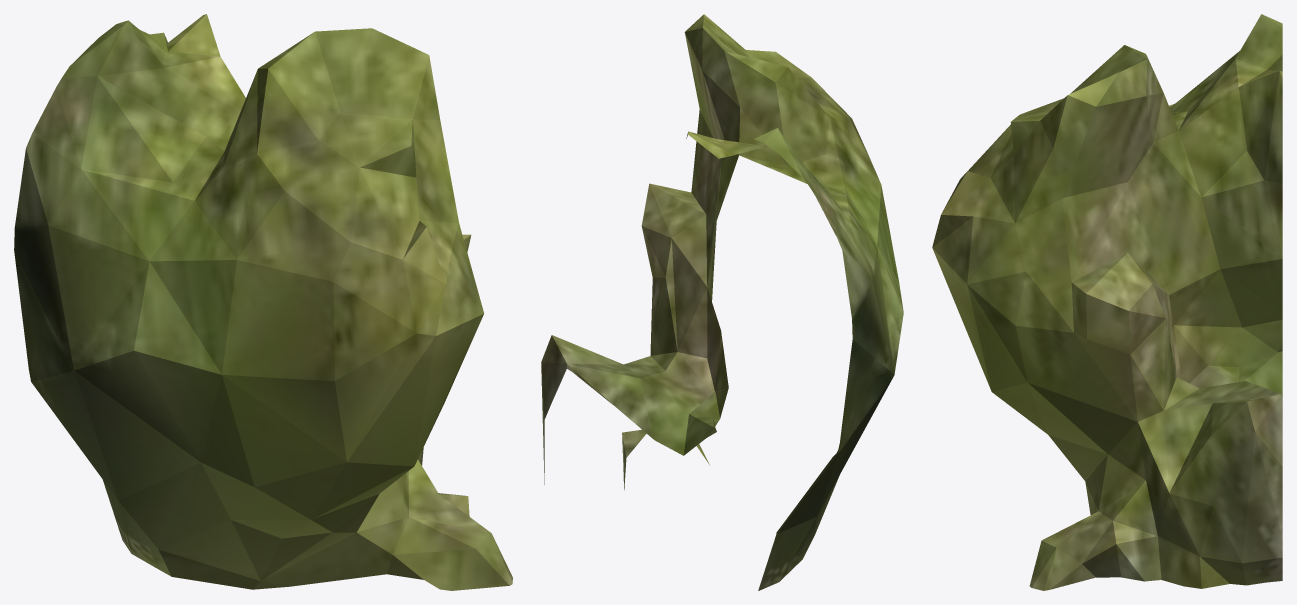
The picture shows the model from 3 angles, left to right: view 1: azimuth 30°, elevation 25°; view 2: azimuth 150°, elevation 25°; view 3: azimuth 270°, elevation 25°; orthographic projection. The views are drawn at different scales.
Bounding box in the file's own units: 1.51 × 2.09 × 1.39.
1 material, 1 textured.
